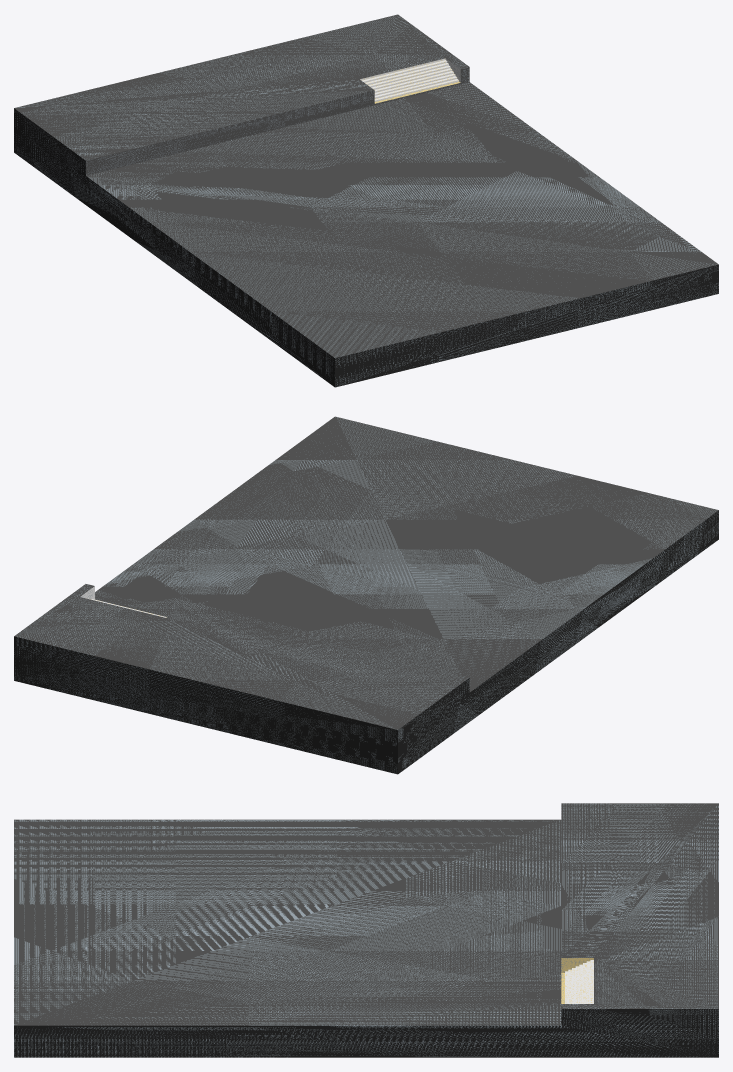
Rendered from 02escalier_sol2.0.dae.
3 renders of one model, top to bottom at view 1: azimuth 30°, elevation 25°; view 2: azimuth 150°, elevation 25°; view 3: azimuth 270°, elevation 25°, orthographic. The views are drawn at different scales.
Parts seen in each view (by area): view 1: SketchUp (×3); view 2: SketchUp (×2); view 3: SketchUp (×3).
Boxes of the visible parts, bbox=[...] form: SketchUp (×3): bbox=[14, 14, 718, 387]; SketchUp (×2): bbox=[14, 416, 718, 774]; SketchUp (×3): bbox=[14, 803, 718, 1057].
Size of the model in its own units: 1580 by 2289 by 175.
